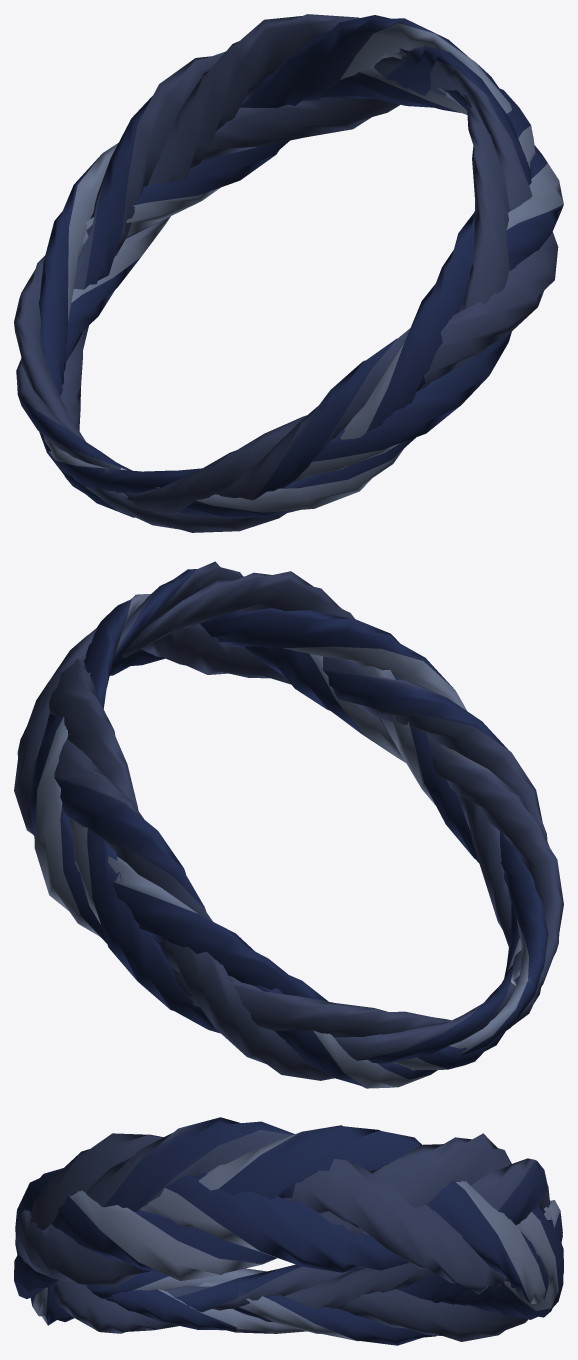
File: Bracelet_Girl.obj
3 renders of one model, top to bottom at view 1: azimuth 30°, elevation 25°; view 2: azimuth 150°, elevation 25°; view 3: azimuth 270°, elevation 25°, orthographic. The views are drawn at different scales.
Visible parts, largest first — view 1: BraceletGirl1 Girl_grp; view 2: BraceletGirl1 Girl_grp; view 3: BraceletGirl1 Girl_grp.
Part boxes in pixels (x1,y1,x2,y2): BraceletGirl1 Girl_grp: (14, 14, 563, 532); BraceletGirl1 Girl_grp: (14, 561, 563, 1088); BraceletGirl1 Girl_grp: (14, 1117, 563, 1345).
Size of the model in its own units: 4.91 by 4.03 by 5.56.
Materials: 1 (1 with a texture image).
